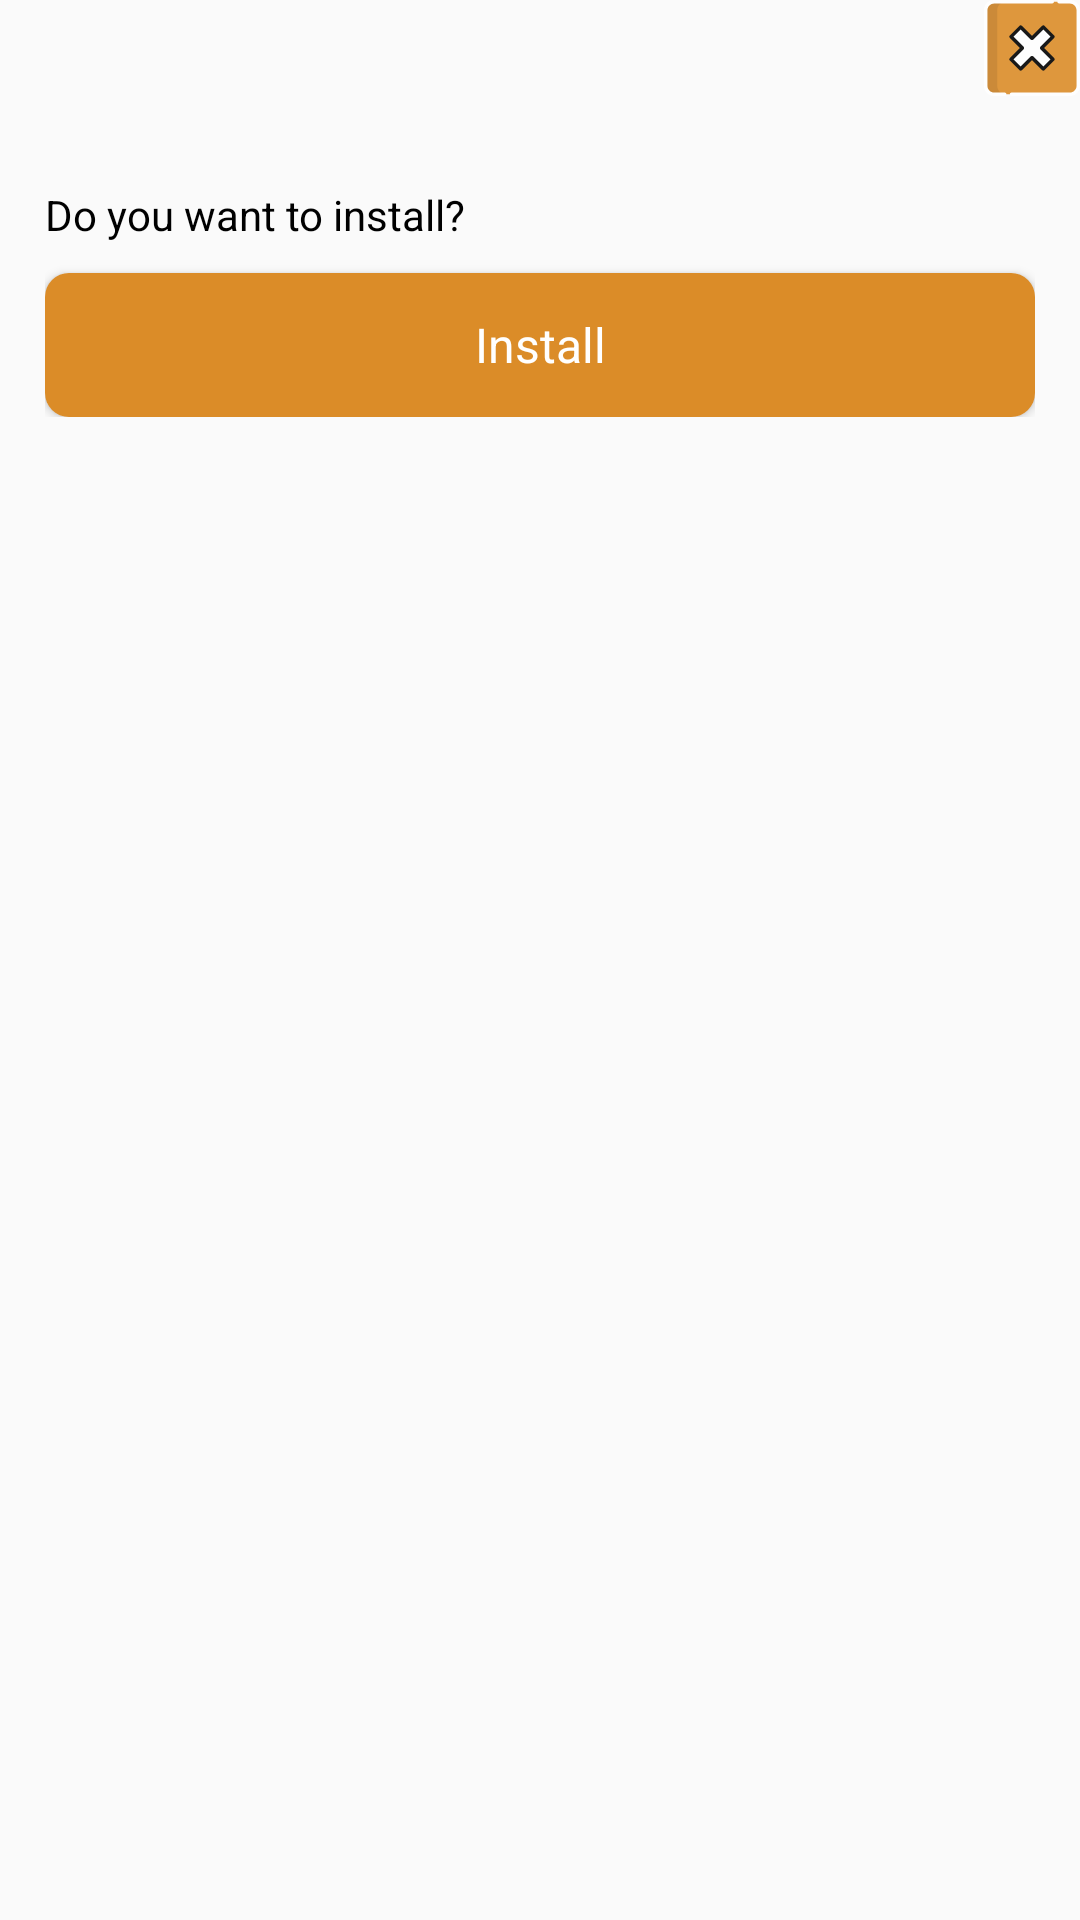

Where to tap for icons on this 1080 x 1920 app screen, as point (x, y):
cross close: point (1032, 48)
